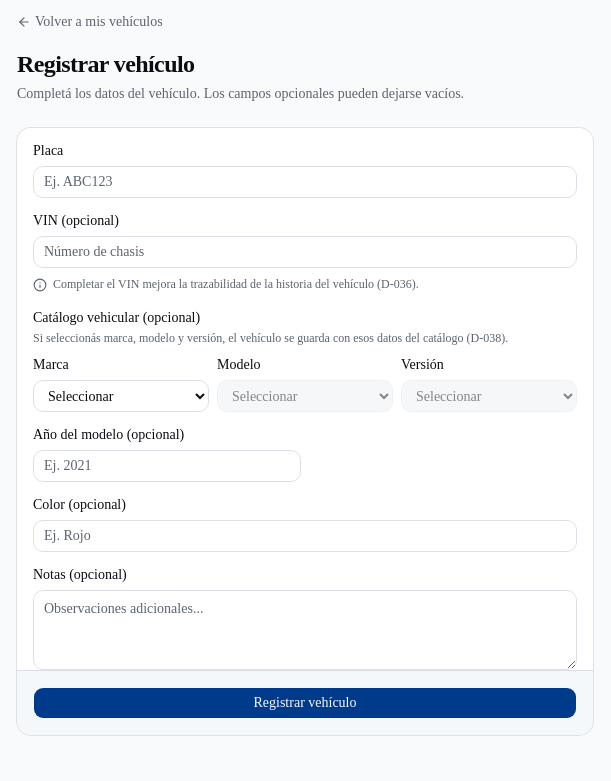
Test: Vehicle register form › blocks submit with an invalid plate (non-alphanumeric)
Type "A!" into the field labelled "Placa" at (305, 182), box [33,166,577,198]
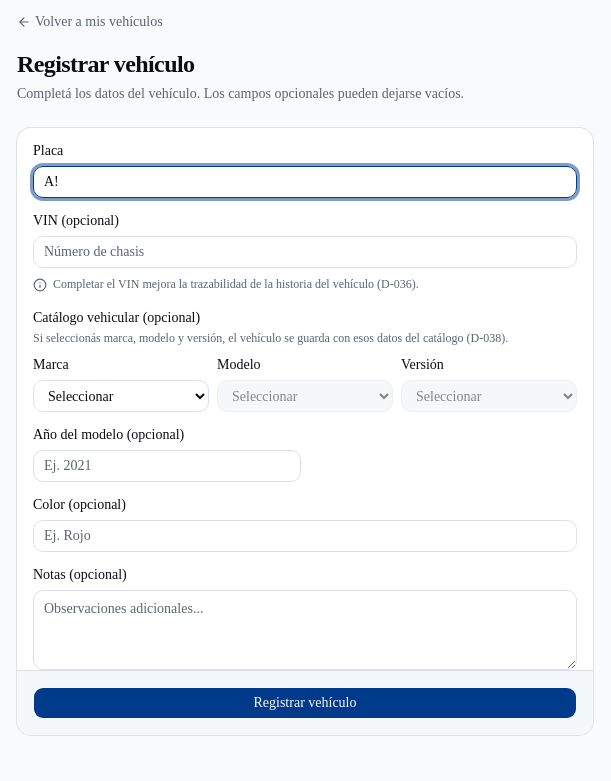
Click the button "Registrar vehículo" at (305, 703), box [33,687,577,719]
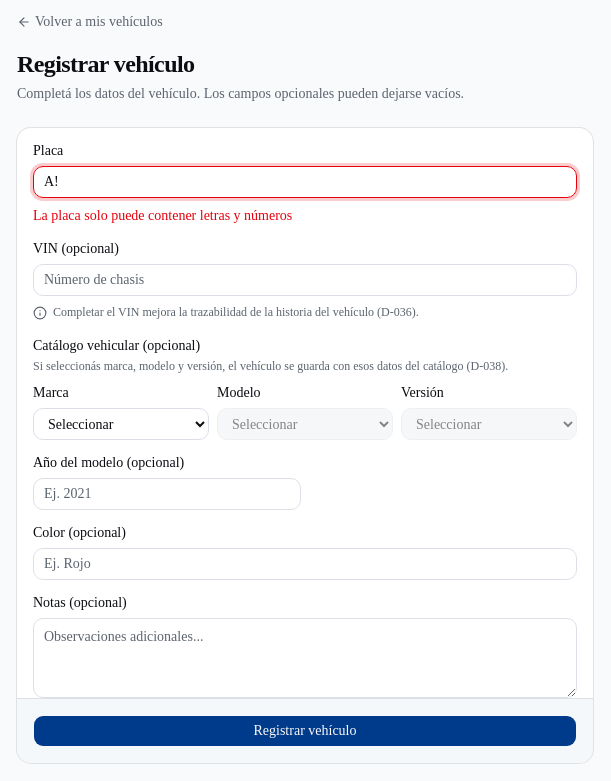
expect the text "La placa solo puede contener letras y números" is shown: met, box [33,208,292,223]
